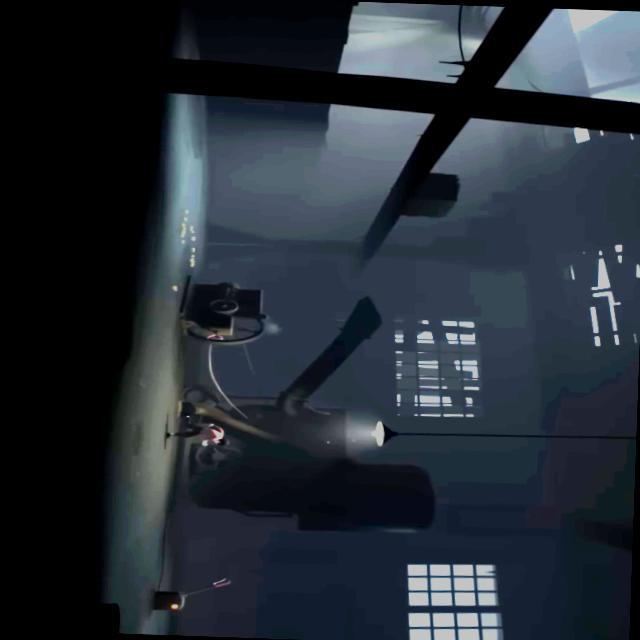boy: (163, 414, 228, 447)
